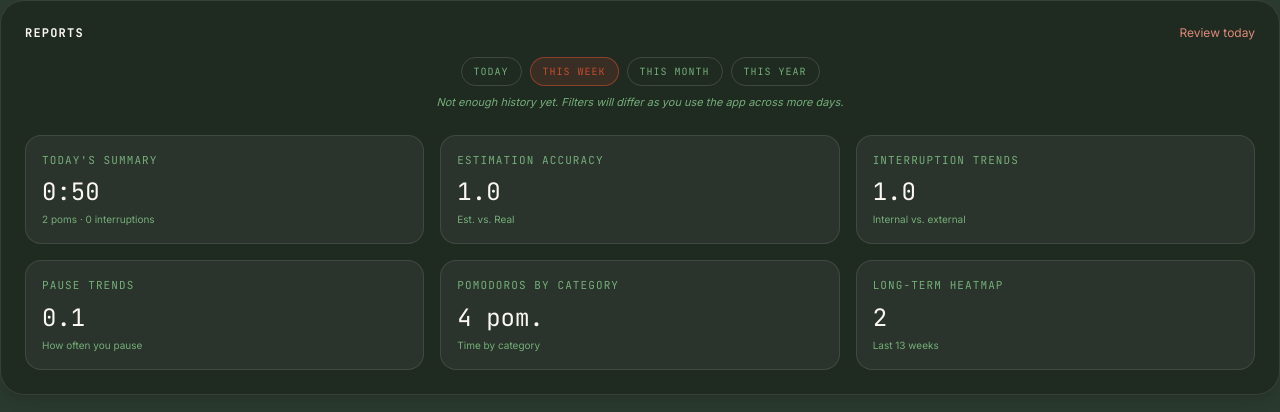
Test: Reports › returns to the menu via the breadcrumb button
The width and height of the screenshot is (1280, 412).
Click the button "Pomodoros by Category 4 pom. Time by category".
click(538, 285)  # box [440,260,840,370]
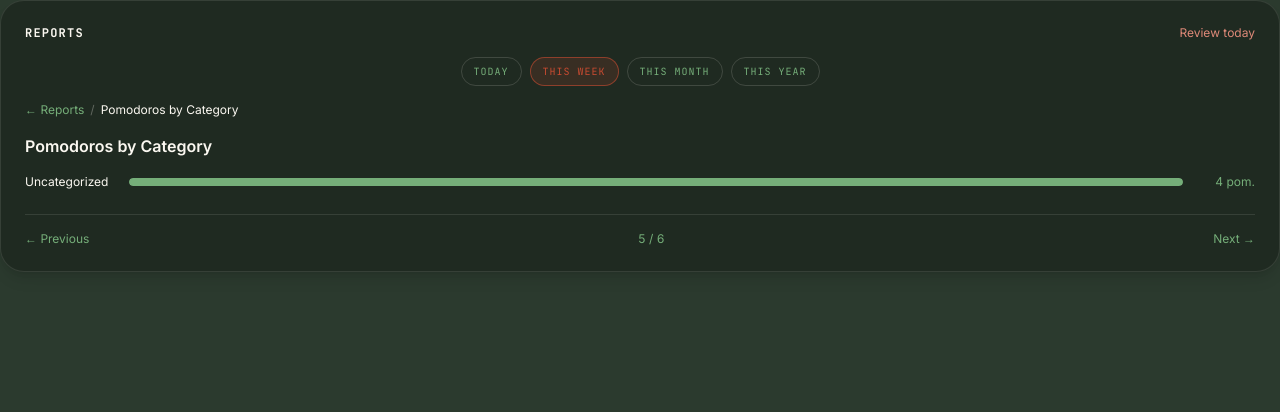
expect the heading "Pomodoros by Category" is shown: met, box [25,136,212,156]
Click the button "← Reports / Pomodoros by Category".
click(132, 110)  # box [25,102,238,118]
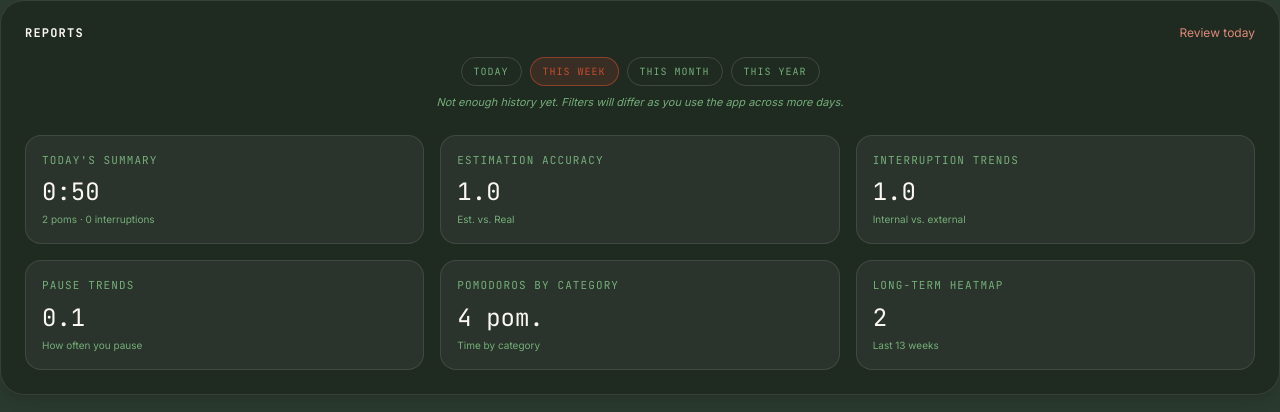
expect the button "Estimation Accuracy 1.0 Est. vs. Real" is shown: met, box [440,134,840,244]
